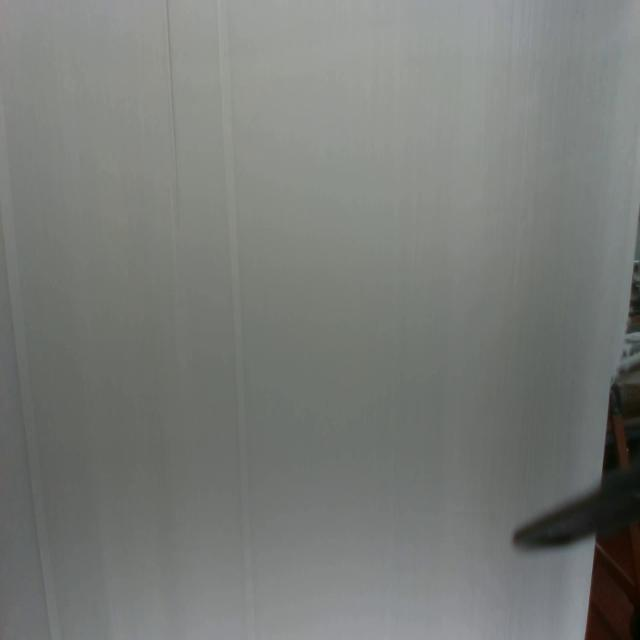crease: (0, 115, 61, 639), (218, 0, 255, 640), (163, 0, 181, 223)
